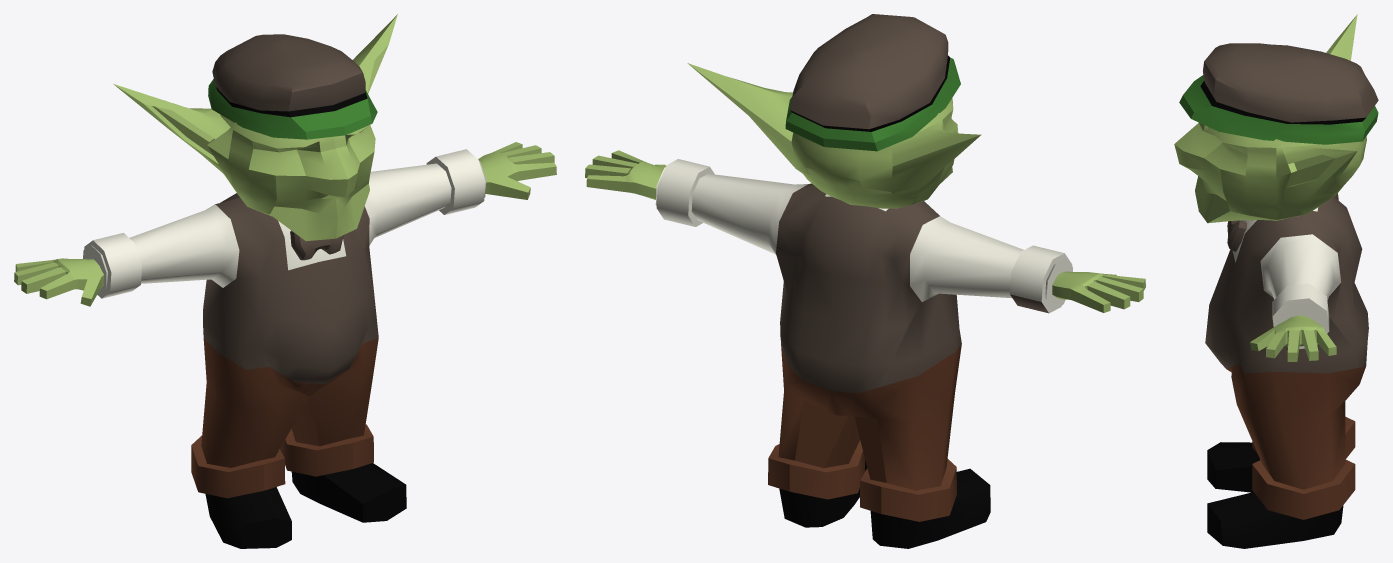
File: Goblinv0.2.fbx
3 renders of one model, left to right at view 1: azimuth 30°, elevation 25°; view 2: azimuth 150°, elevation 25°; view 3: azimuth 270°, elevation 25°, orthographic. The views are drawn at different scales.
Parts seen in each view (by area): view 1: Cube.004, Cube.003, Circle.001, Arms.001, Plane.002; view 2: Cube.004, Circle.001, Cube.003, Arms.001; view 3: Cube.004, Circle.001, Cube.003, Arms.001, Plane.002.
Boxes of the visible parts, x1,y1,x2,y2 form: Cube.004: (83, 149, 486, 548); Cube.003: (113, 14, 397, 241); Circle.001: (208, 34, 377, 139); Arms.001: (14, 142, 556, 306); Plane.002: (290, 230, 343, 260); Cube.004: (655, 159, 1072, 548); Circle.001: (785, 14, 960, 151); Cube.003: (687, 63, 981, 208); Arms.001: (585, 150, 1145, 312); Cube.004: (1205, 193, 1368, 548); Circle.001: (1179, 43, 1378, 144); Cube.003: (1174, 14, 1366, 223); Arms.001: (1250, 315, 1336, 361); Plane.002: (1227, 220, 1246, 251).
Bounding box in the file's own units: 1.9 × 0.6471 × 1.58.
